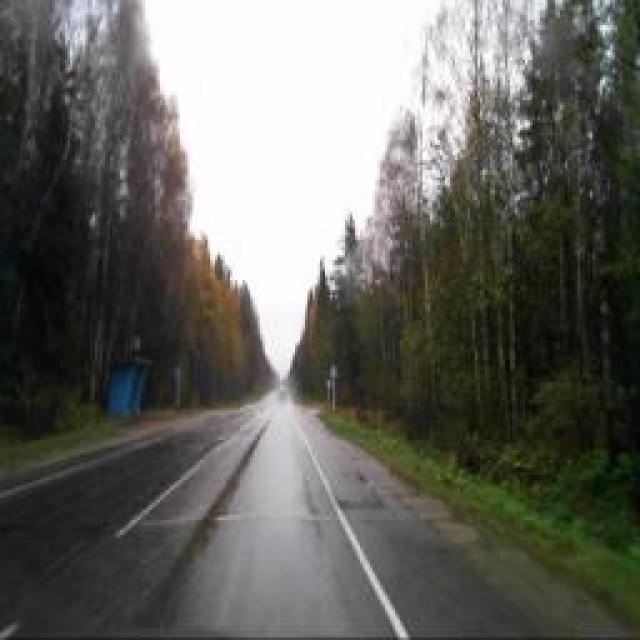sign: (329, 362, 339, 380)
